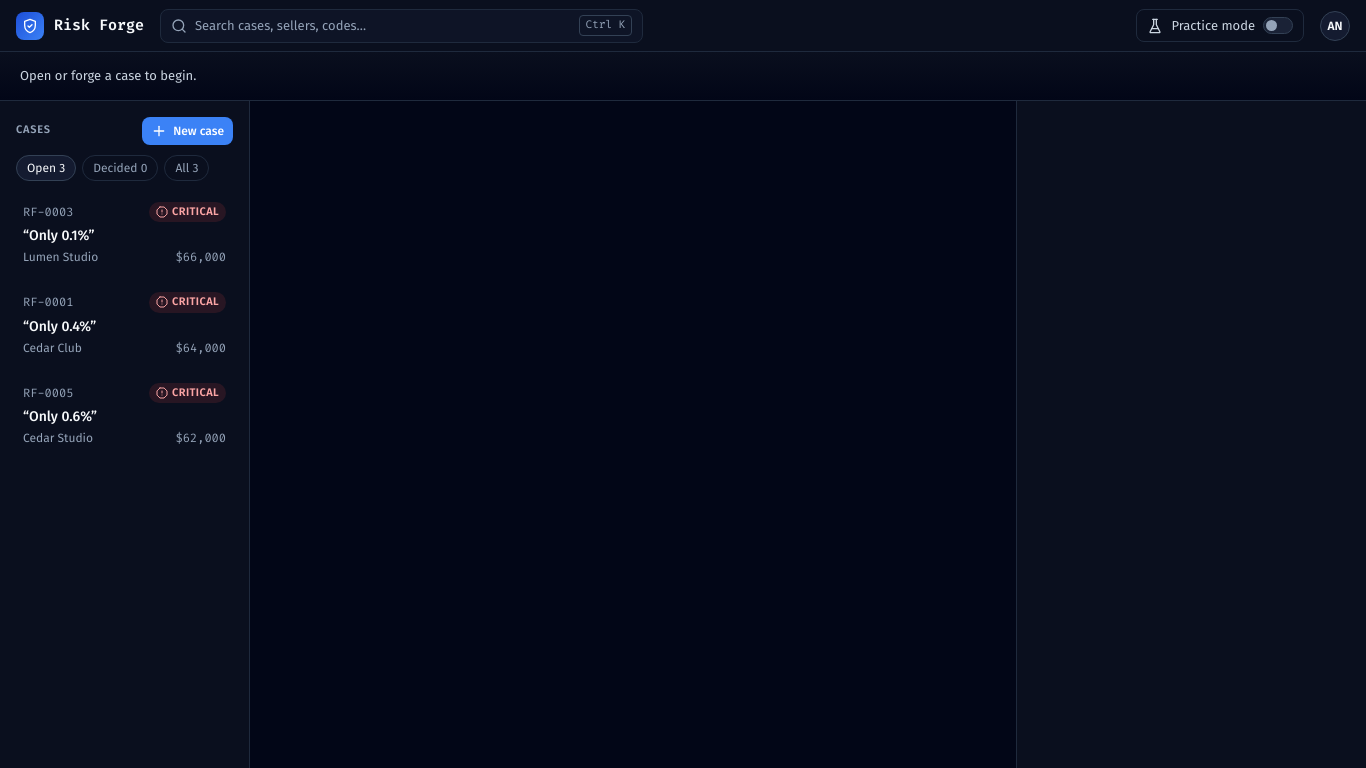
Scenario: console shell › ignores a search of only separators
The width and height of the screenshot is (1366, 768).
Type "--" into the search field named "Search cases" at (383, 26), box x1=195 y1=10 x2=571 y2=42
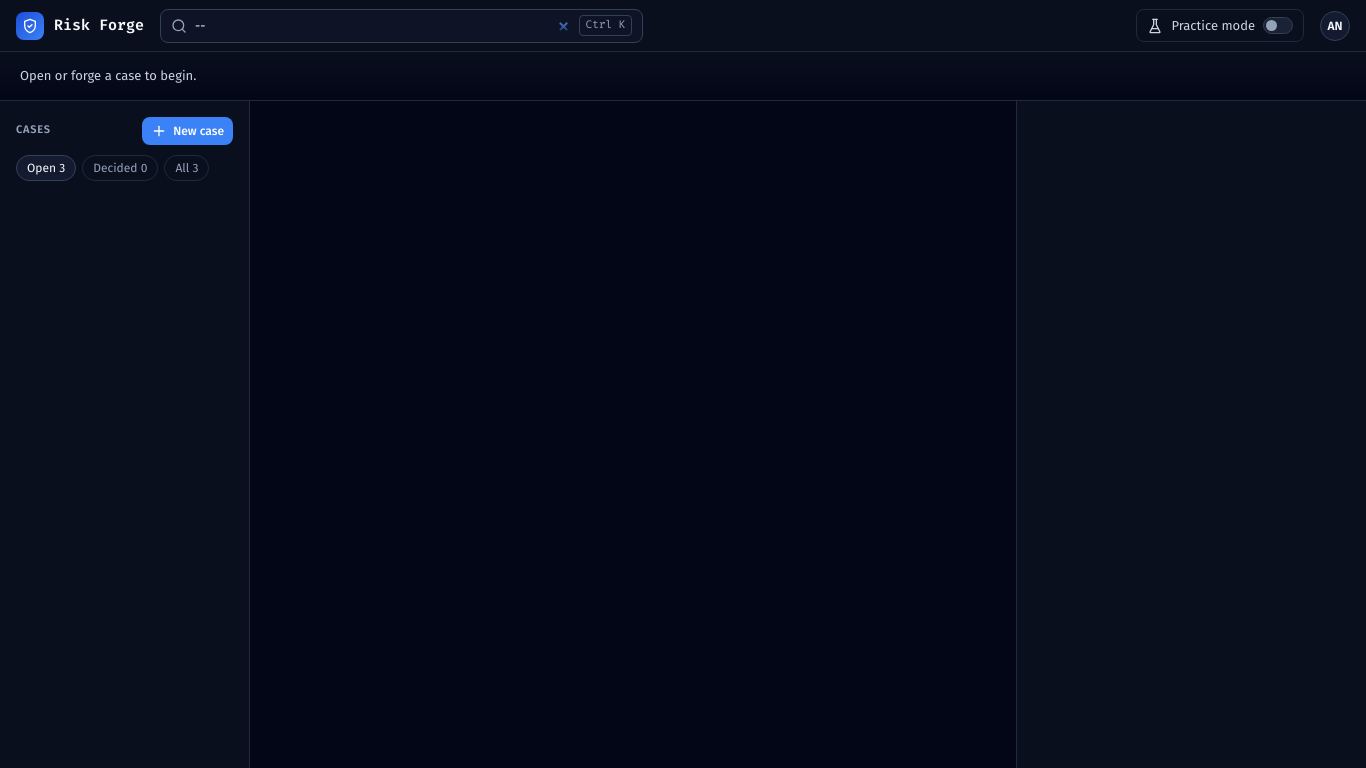
Check: no buttons with class "case" are shown
